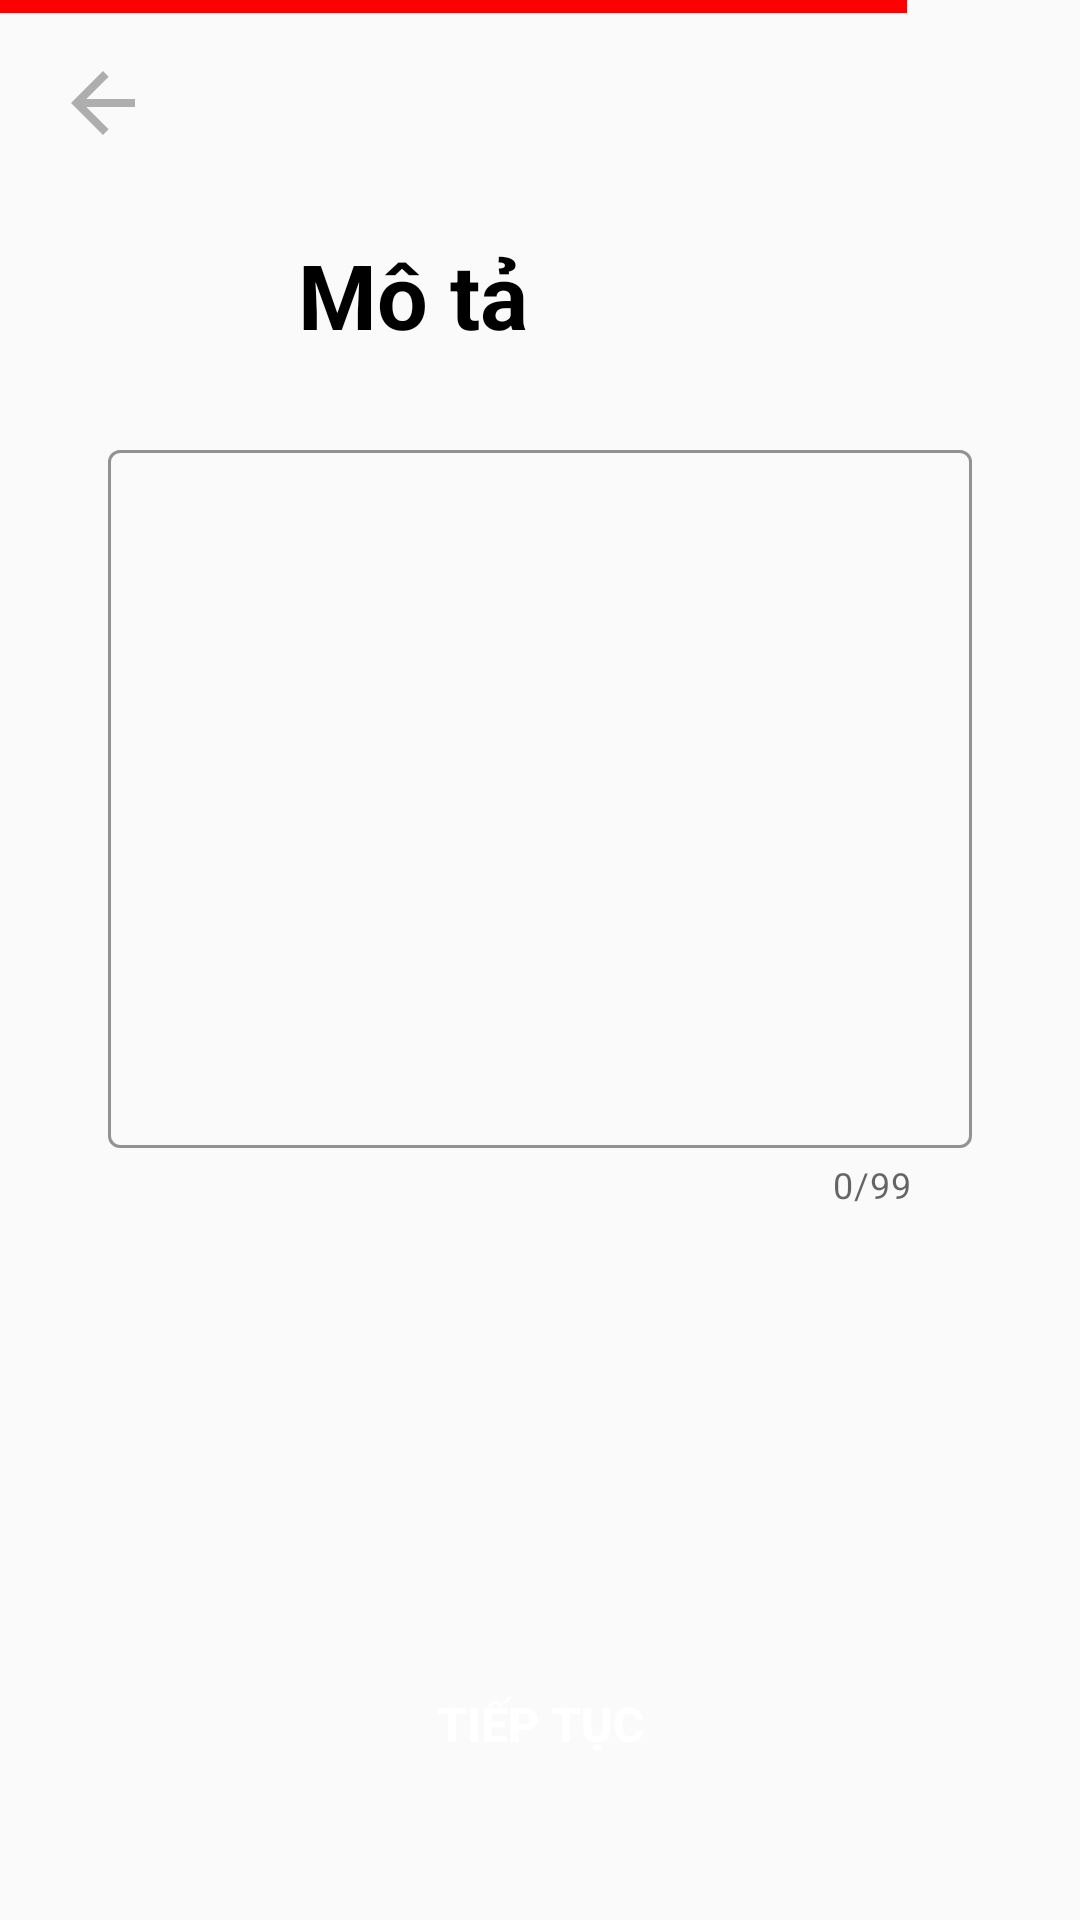

Where icons sit on this 1080w x 1920h app screen, as (x1=x1, y1=y1, x2=x2, y2=y2):
arrow back: (x1=71, y1=71, x2=135, y2=135)
